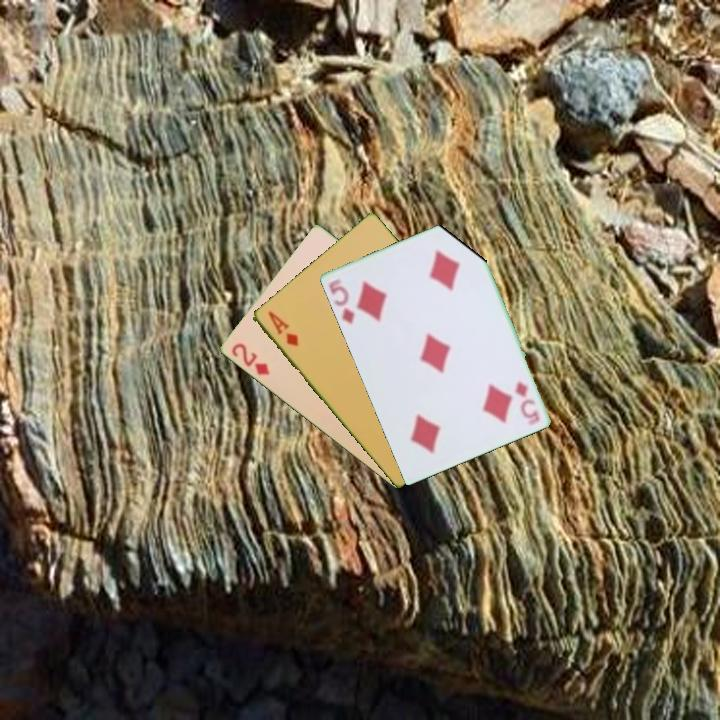2d: (227, 340, 272, 378)
5d: (325, 275, 357, 327), (511, 377, 542, 424)
Ad: (264, 307, 301, 349)
